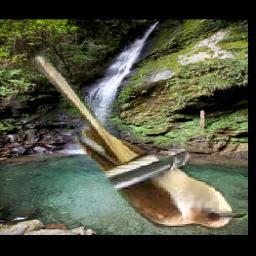Cuckoo: (31, 52, 248, 232)
